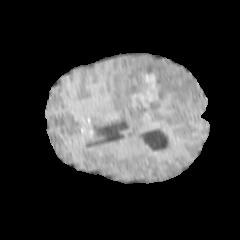glioma: (110, 58, 200, 132)
